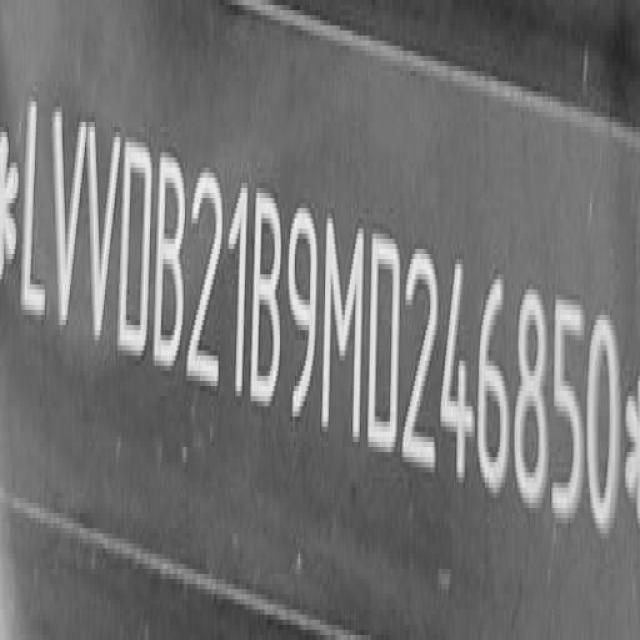0: (589, 307, 622, 539)
1: (227, 177, 248, 401)
2: (405, 246, 441, 480), (190, 162, 226, 390)
4: (442, 263, 477, 492)
5: (550, 292, 585, 528)
6: (478, 265, 512, 500)
8: (514, 284, 549, 516)
9: (289, 200, 321, 430)
B: (155, 150, 188, 376), (253, 186, 285, 413)
D: (118, 132, 156, 363), (368, 225, 404, 463)
L: (22, 101, 52, 324)
M: (322, 209, 366, 449)
V: (86, 117, 122, 352), (48, 103, 84, 337)
